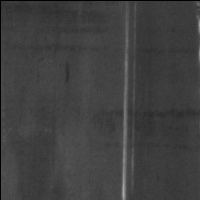scratches: (119, 4, 140, 200)
